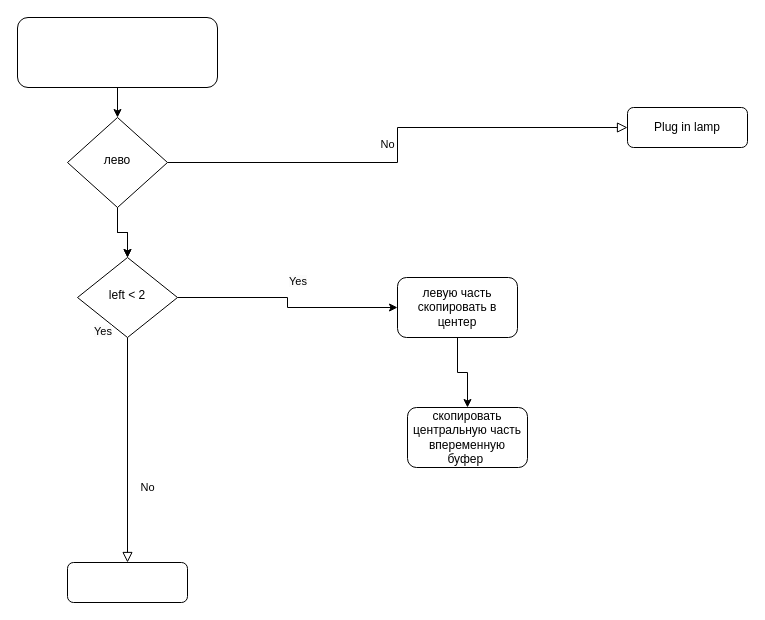
This 765x620 diagram has some shape labels left out. Each missing label, with the centre of its shape:
event . animationName: pixel 117 52
Repair Lamp: pixel 127 582
